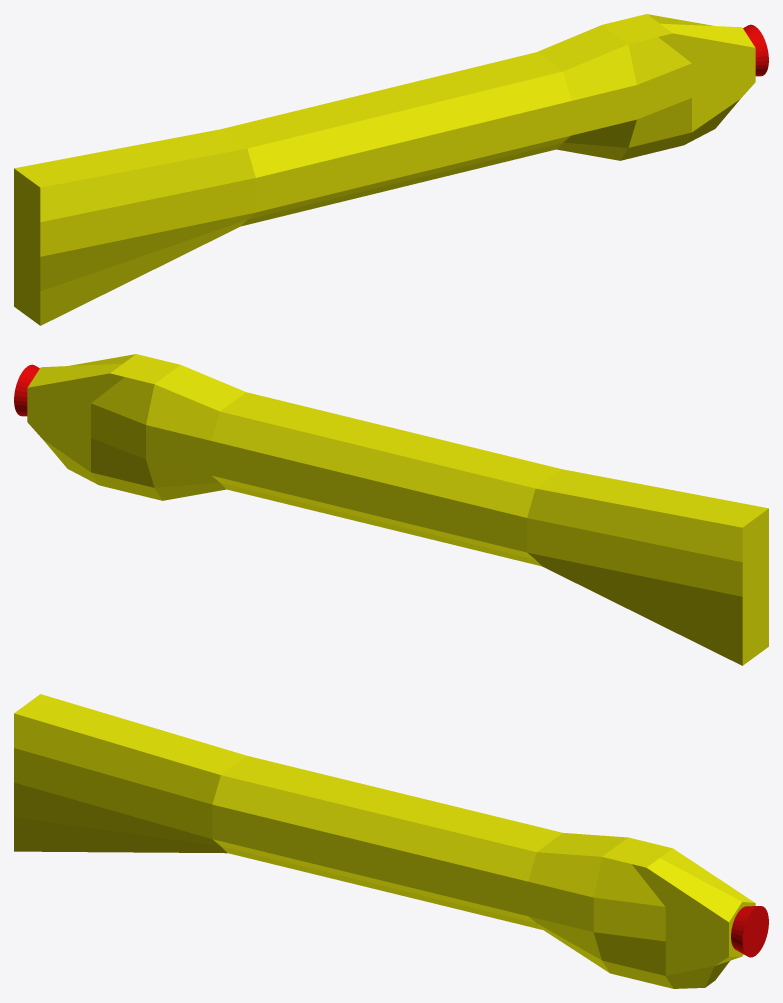
Rendered from RocketLauncher.fbx.
3 renders of one model, top to bottom at view 1: azimuth 30°, elevation 25°; view 2: azimuth 150°, elevation 25°; view 3: azimuth 330°, elevation 25°, orthographic.
Visible parts, largest first — view 1: RocketLauncher; view 2: RocketLauncher; view 3: RocketLauncher.
Part boxes in pixels (box(x1,y1,x2,y2)): RocketLauncher: box(14, 14, 768, 325); RocketLauncher: box(14, 354, 768, 665); RocketLauncher: box(14, 694, 768, 988).
Size of the model in its own units: 201 by 36.4 by 20.71.
